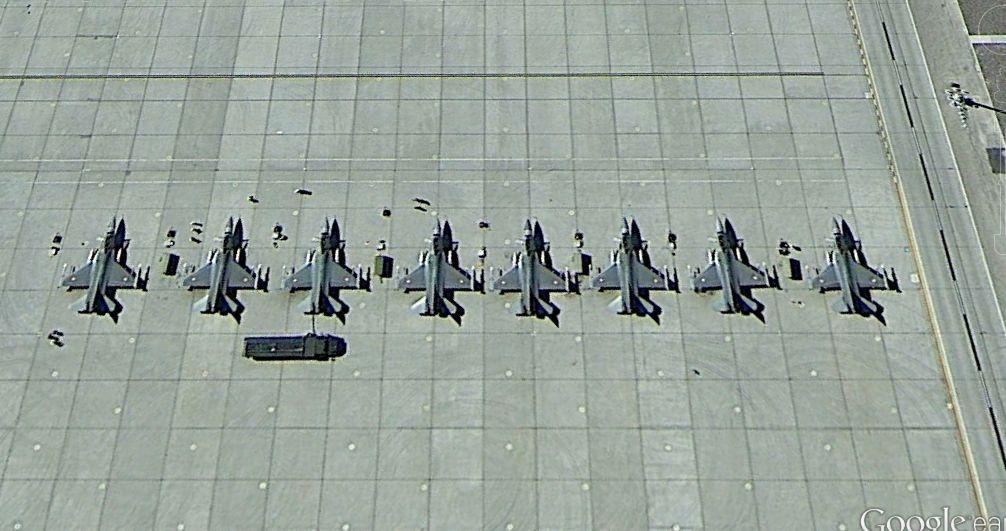F-16: (688, 219, 776, 318), (61, 214, 143, 318), (591, 219, 675, 319), (490, 220, 575, 318), (286, 214, 367, 315), (812, 219, 892, 318), (404, 216, 482, 315), (189, 219, 262, 318)
